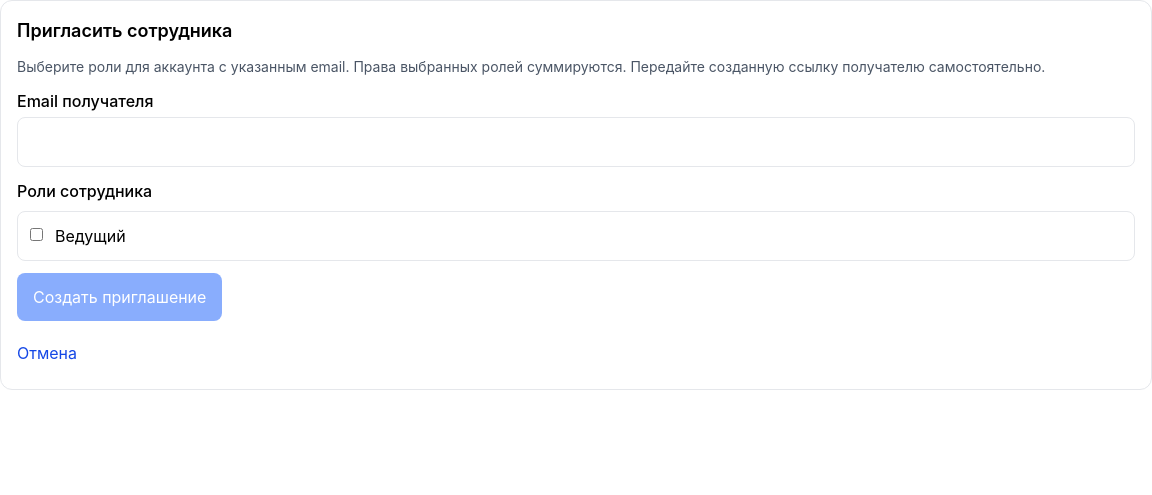
Test: существующее приглашение показывает понятный отказ без ложного успеха
Click the checkbox labelled "Ведущий" at (36, 234), box [30, 228, 43, 241]
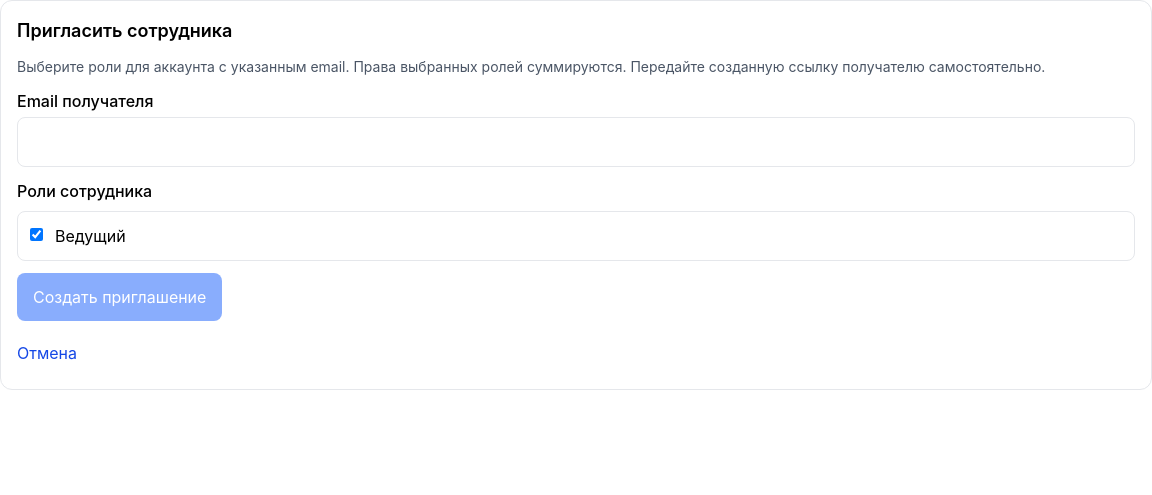
Type "demo@example.test" into the field labelled "Email получателя" at (576, 142), box [17, 117, 1135, 167]
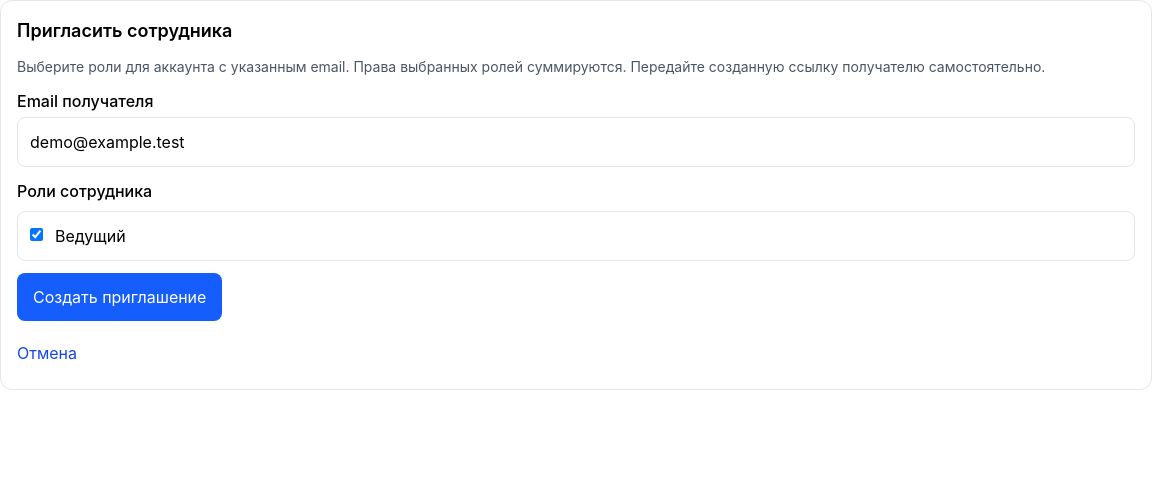
Submit the form "Создать приглашение", box [17, 89, 1135, 321]
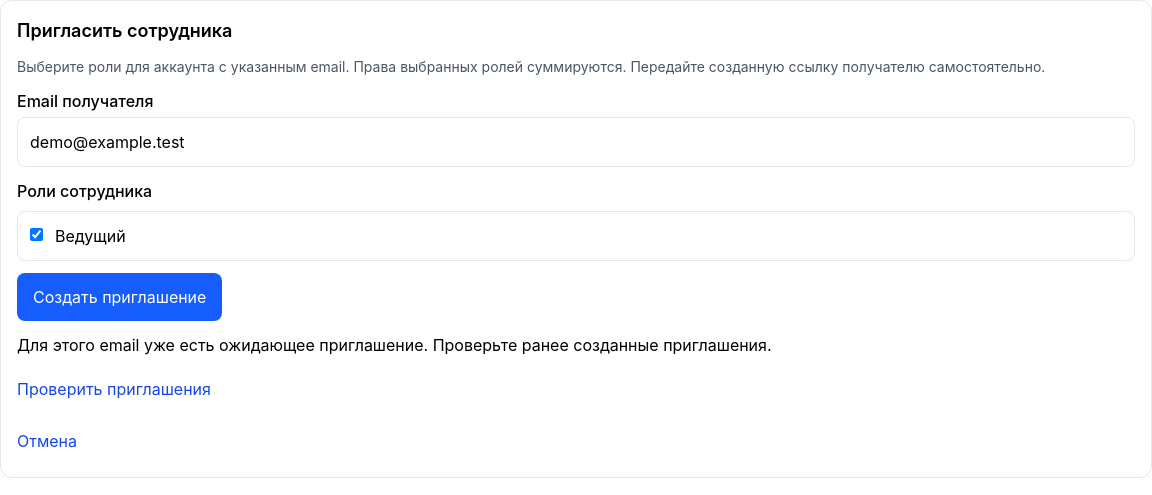
Result: the text "уже есть ожидающее приглашение" is shown at [17, 335, 772, 355]
